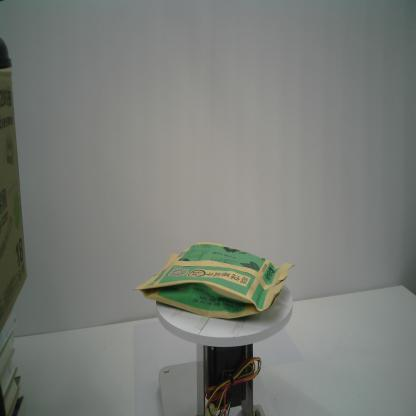Dried Food: (133, 240, 295, 320)
